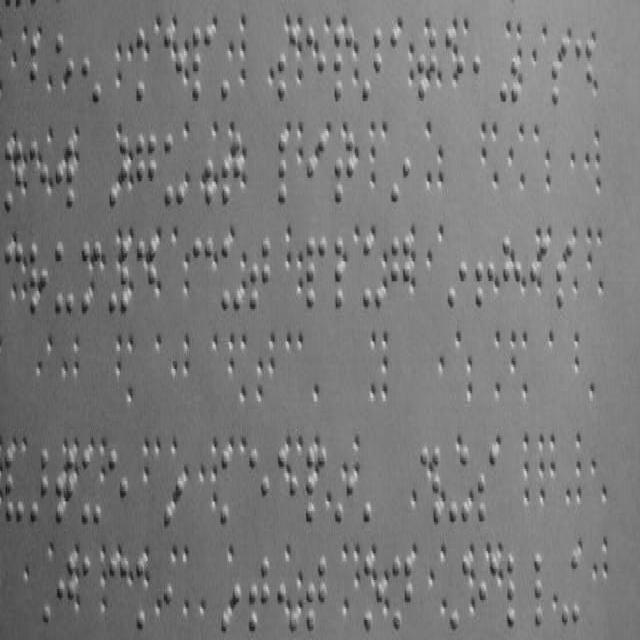braiile: (506, 553, 530, 629), (80, 446, 102, 528), (248, 446, 270, 528), (248, 554, 270, 634), (391, 553, 414, 629), (220, 448, 242, 526), (476, 443, 498, 521), (306, 554, 328, 632), (220, 235, 242, 312), (249, 235, 271, 312), (135, 131, 157, 207), (532, 553, 554, 629), (192, 236, 214, 311), (306, 236, 328, 311), (362, 236, 384, 311), (54, 239, 74, 321), (276, 28, 298, 102), (277, 132, 299, 206), (192, 26, 212, 104), (163, 132, 184, 206), (334, 27, 354, 102), (5, 447, 25, 522), (108, 447, 128, 522), (388, 29, 409, 100), (334, 132, 354, 206), (391, 234, 411, 308), (108, 554, 128, 624), (478, 556, 498, 626), (573, 38, 593, 104), (55, 556, 75, 622), (82, 554, 100, 624), (29, 36, 46, 98)
